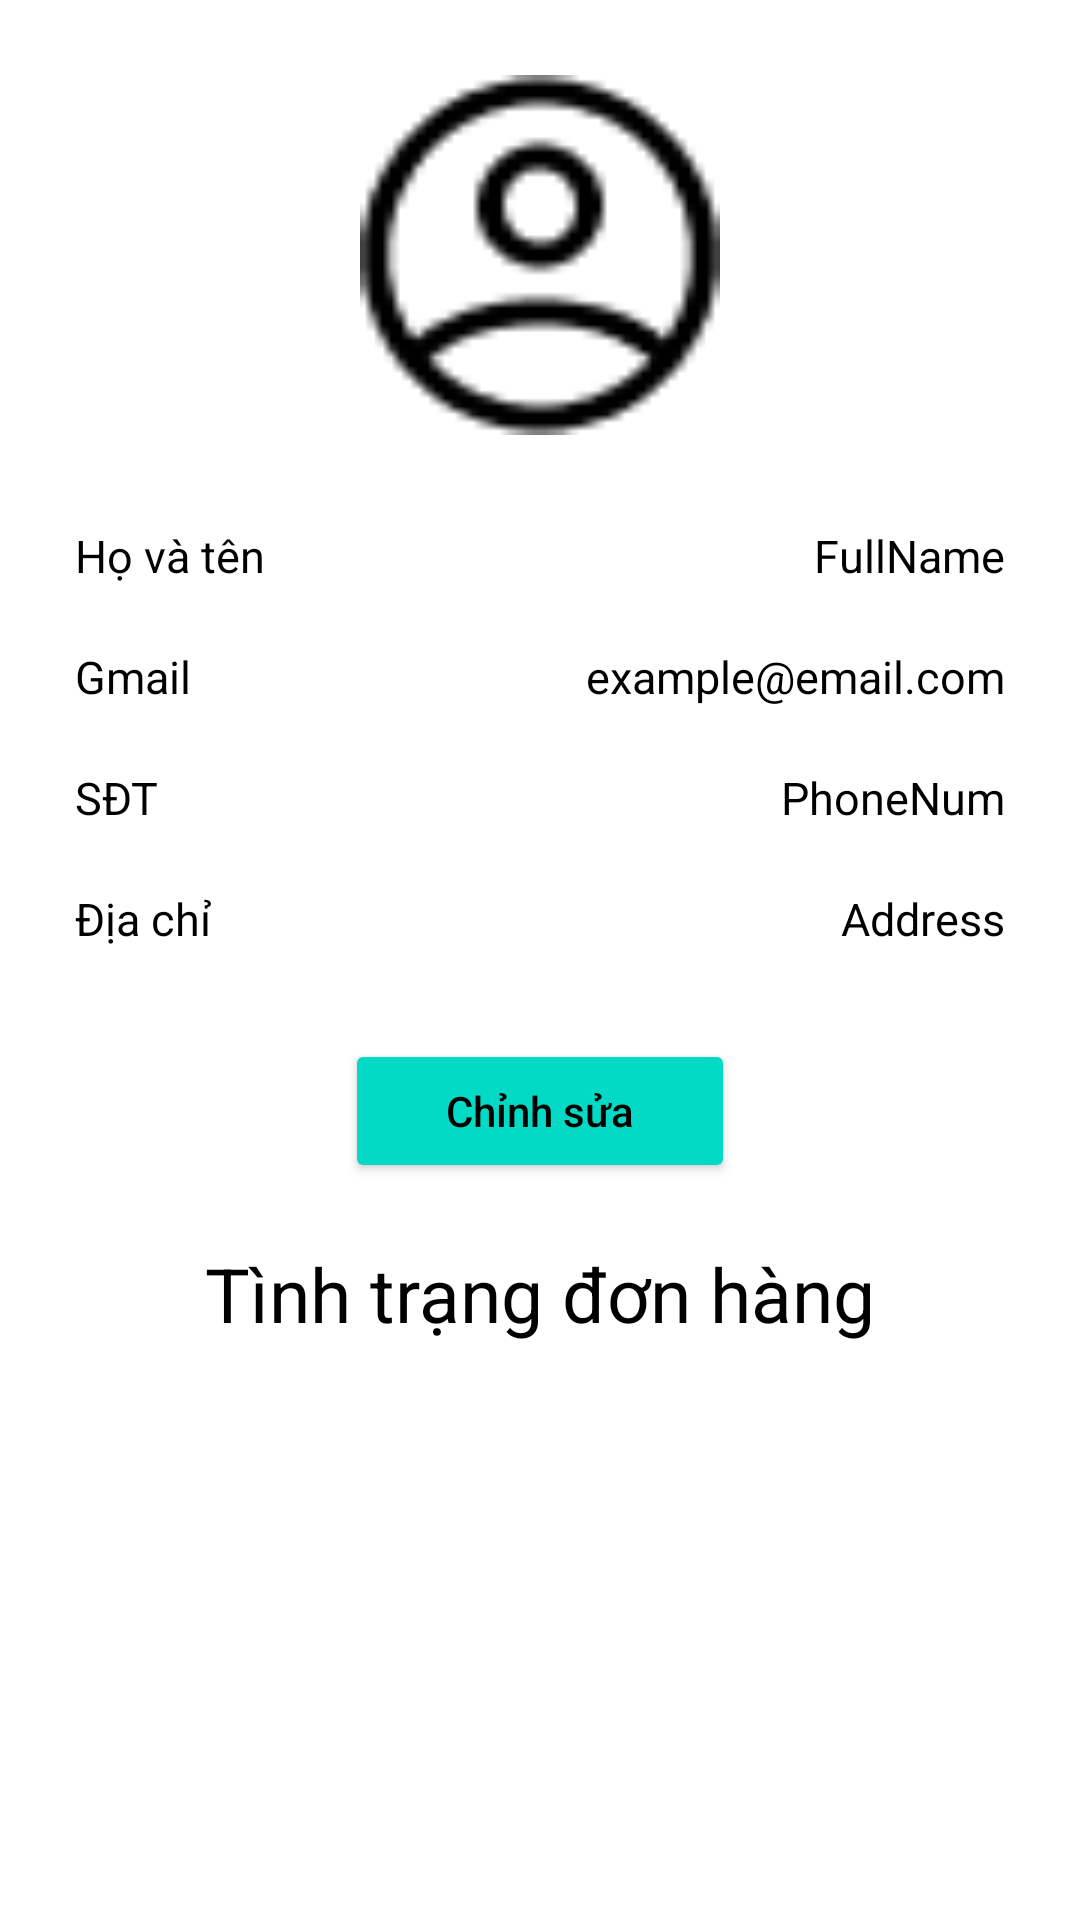

Named icons in this screenshot (1080 × 1920) and their centers, point (x, y):
profile: point (540, 255)
